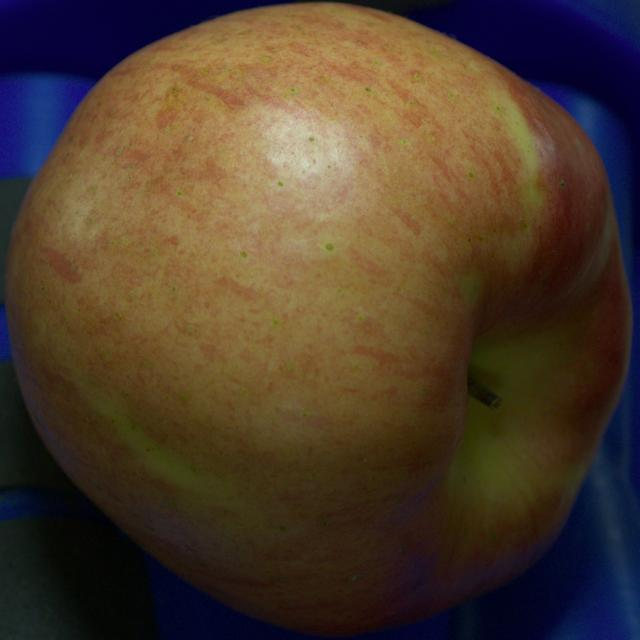apple: (5, 3, 631, 635)
